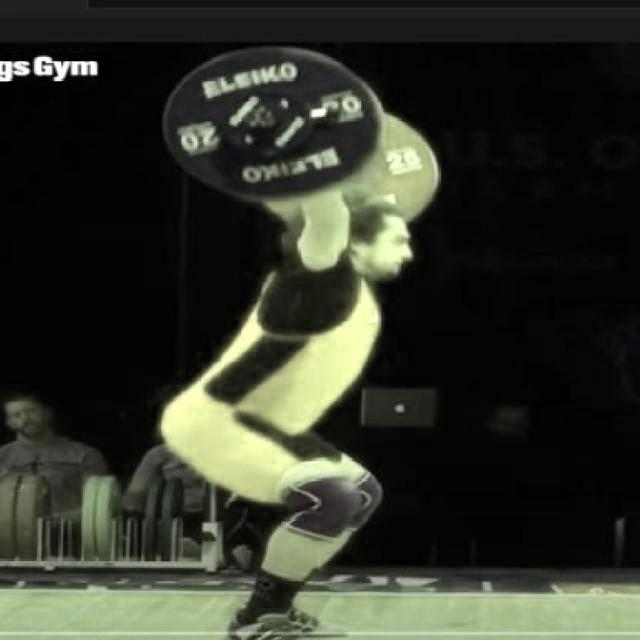barbell: (163, 44, 385, 207)
